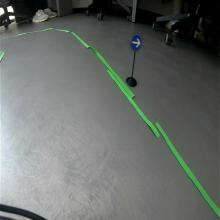right: (131, 34, 143, 52)
